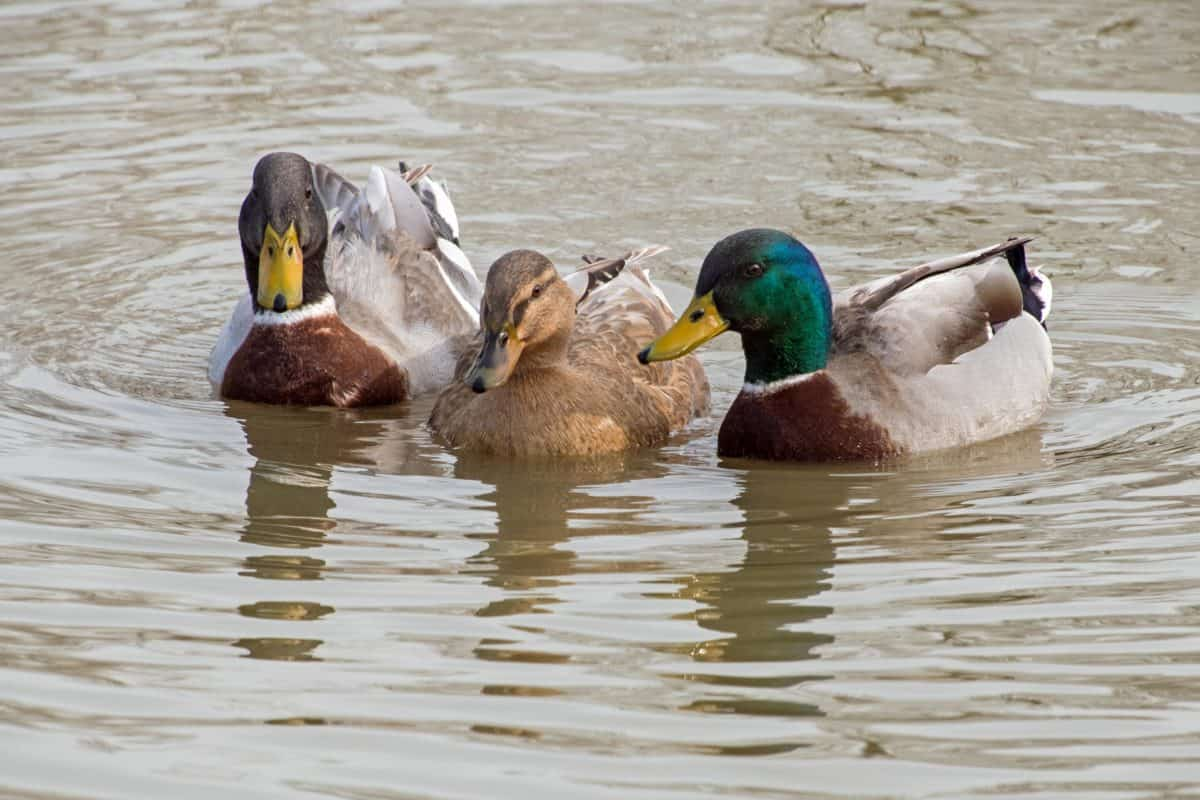bebek: (651, 185, 1069, 475), (205, 134, 454, 414), (461, 212, 647, 459)
